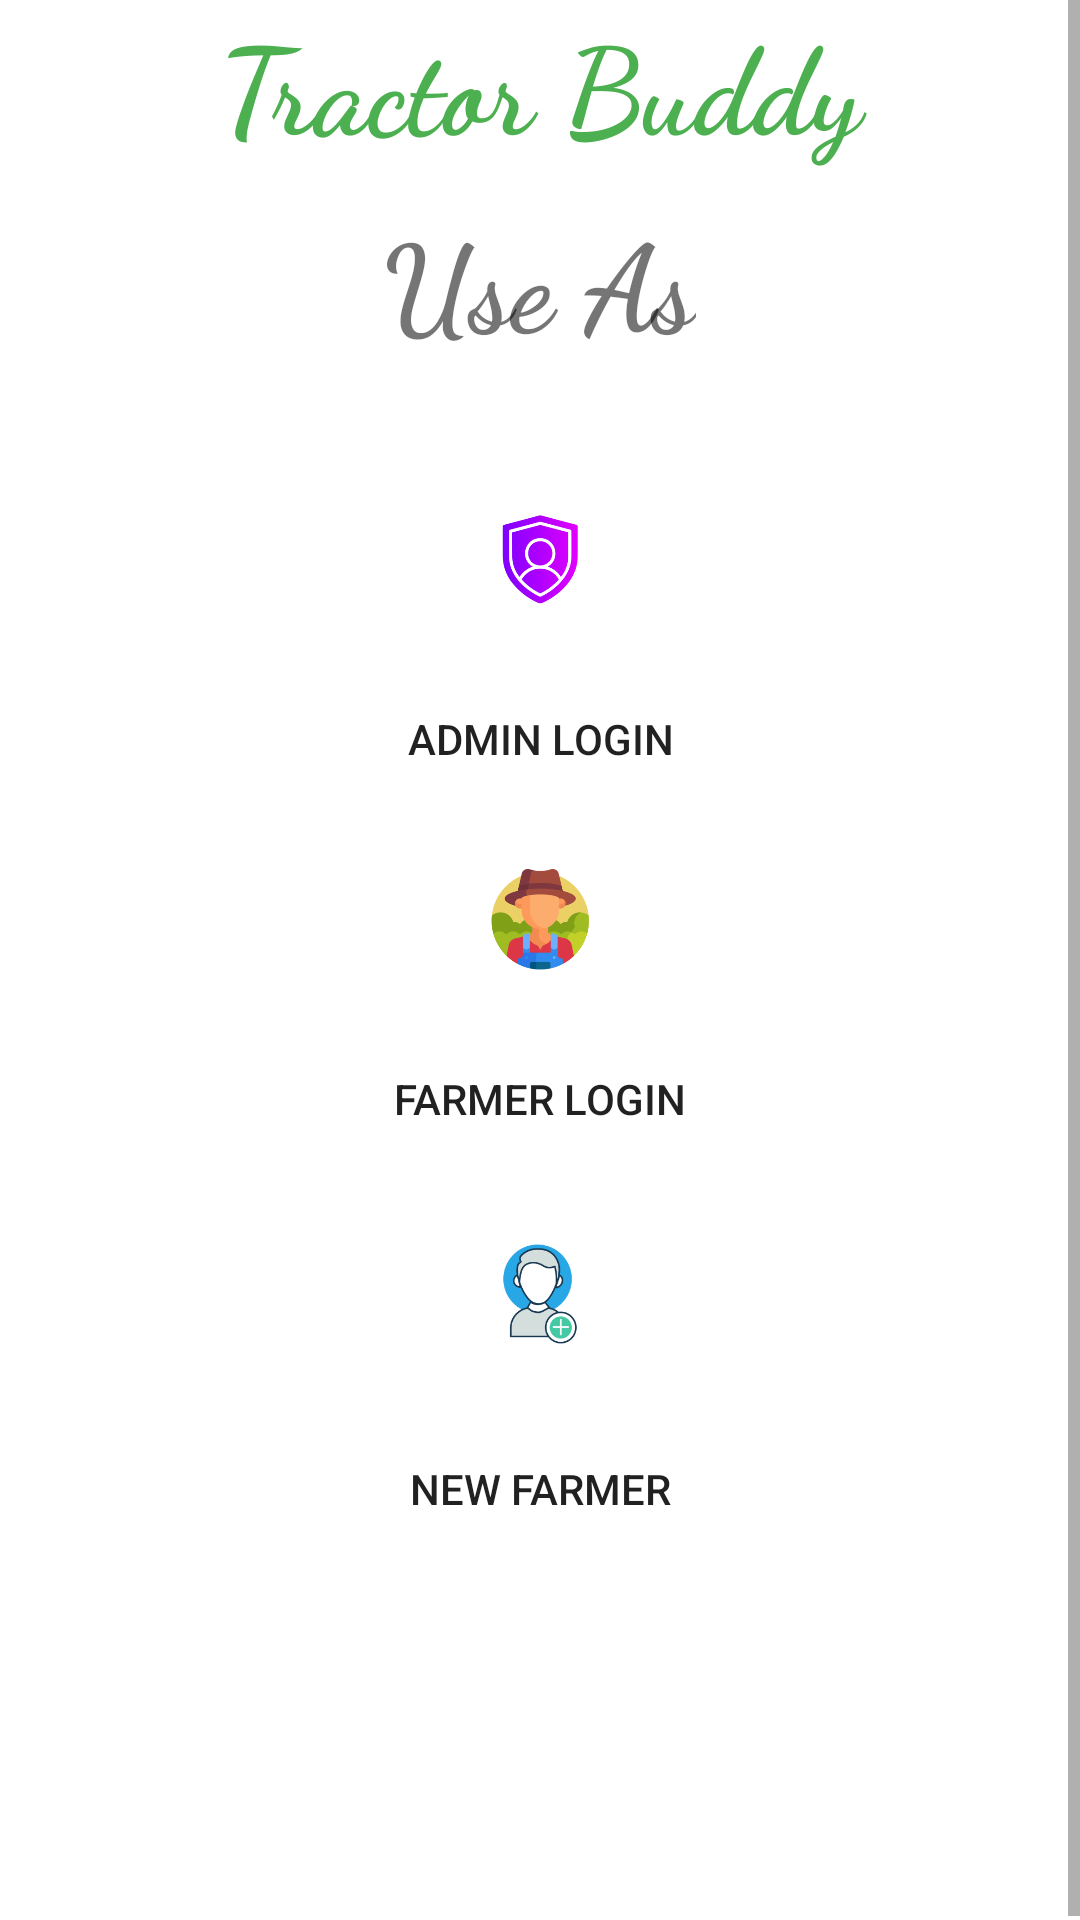

Where icons sit on this 1080×1920 app screen, as BBox(x1, y1, x2, y2):
farmerimg: BBox(491, 869, 589, 970)
newuser: BBox(503, 1244, 577, 1344)
